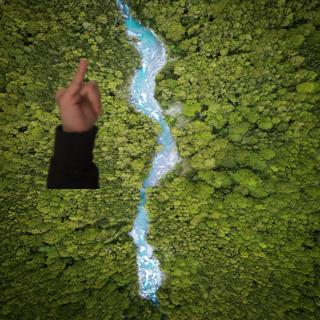HAVE: (49, 56, 109, 137)
